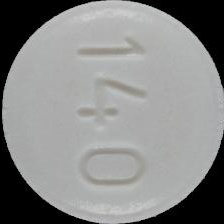13668-140: (0, 0, 224, 224)
